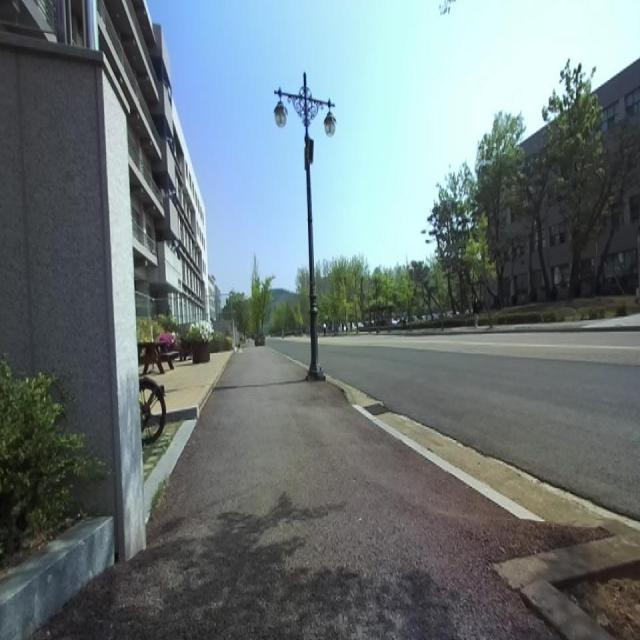sidewalk: (34, 345, 606, 639), (354, 406, 544, 522)
